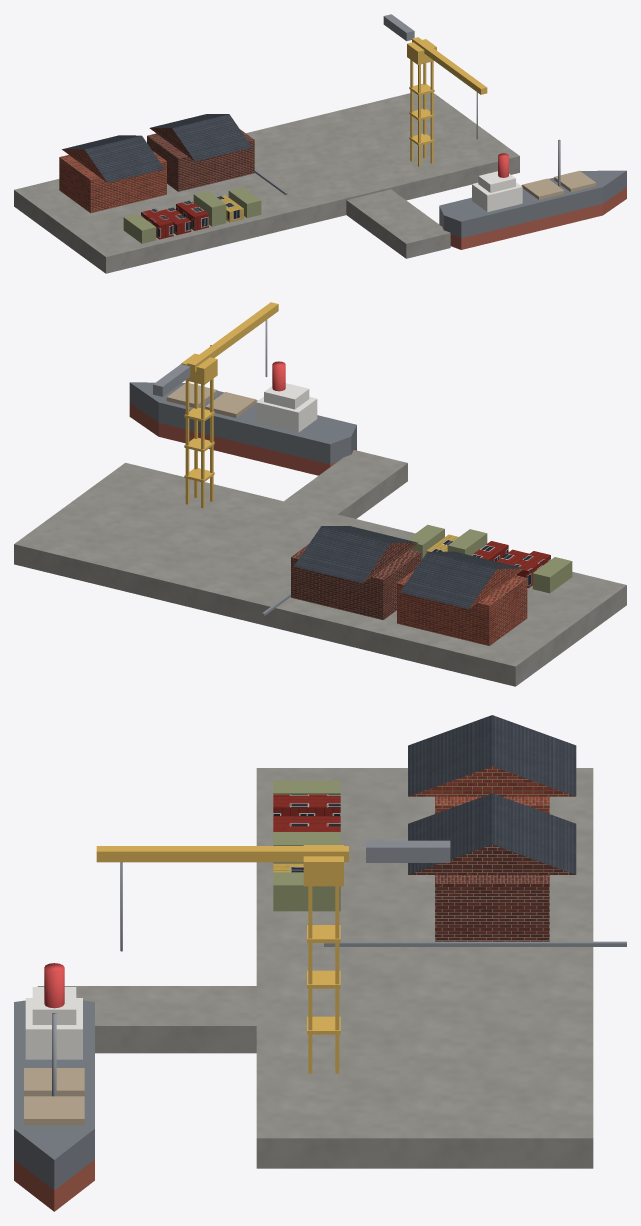
Rendered from port.glb.
3 renders of one model, top to bottom at view 1: azimuth 30°, elevation 25°; view 2: azimuth 150°, elevation 25°; view 3: azimuth 270°, elevation 25°, orthographic. The views are drawn at different scales.
Visible parts, largest first — view 1: port; view 2: port; view 3: port.
Part boxes in pixels (x1,y1,x2,y2): port: (14,14,626,273); port: (14,302,626,686); port: (14,715,626,1211).
Bounding box in the file's own units: 2.92 × 0.83 × 1.82.
14 materials, 6 textured.
